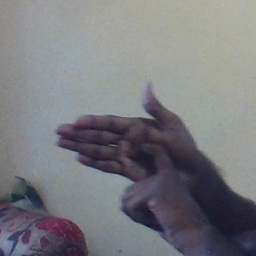R: (56, 82, 200, 217)
